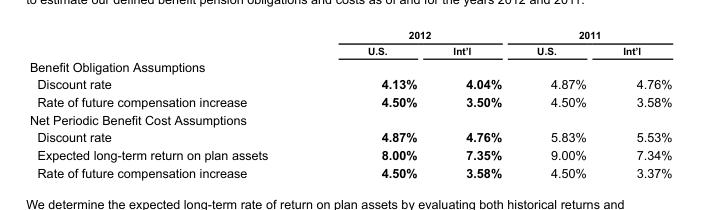table: (28, 29, 671, 179)
table column: (28, 29, 317, 179), (317, 29, 434, 179), (518, 29, 603, 179), (434, 29, 518, 179), (603, 29, 671, 179)
table column header: (28, 29, 671, 57)
table projected row header: (28, 57, 671, 75), (28, 110, 671, 128)
table row: (28, 57, 671, 75), (28, 92, 671, 110), (28, 110, 671, 128), (28, 145, 671, 163), (28, 75, 671, 92), (28, 128, 671, 145), (28, 163, 671, 179), (28, 42, 671, 57), (28, 29, 671, 42)
table spanning cell: (317, 29, 518, 42), (518, 29, 671, 42)
